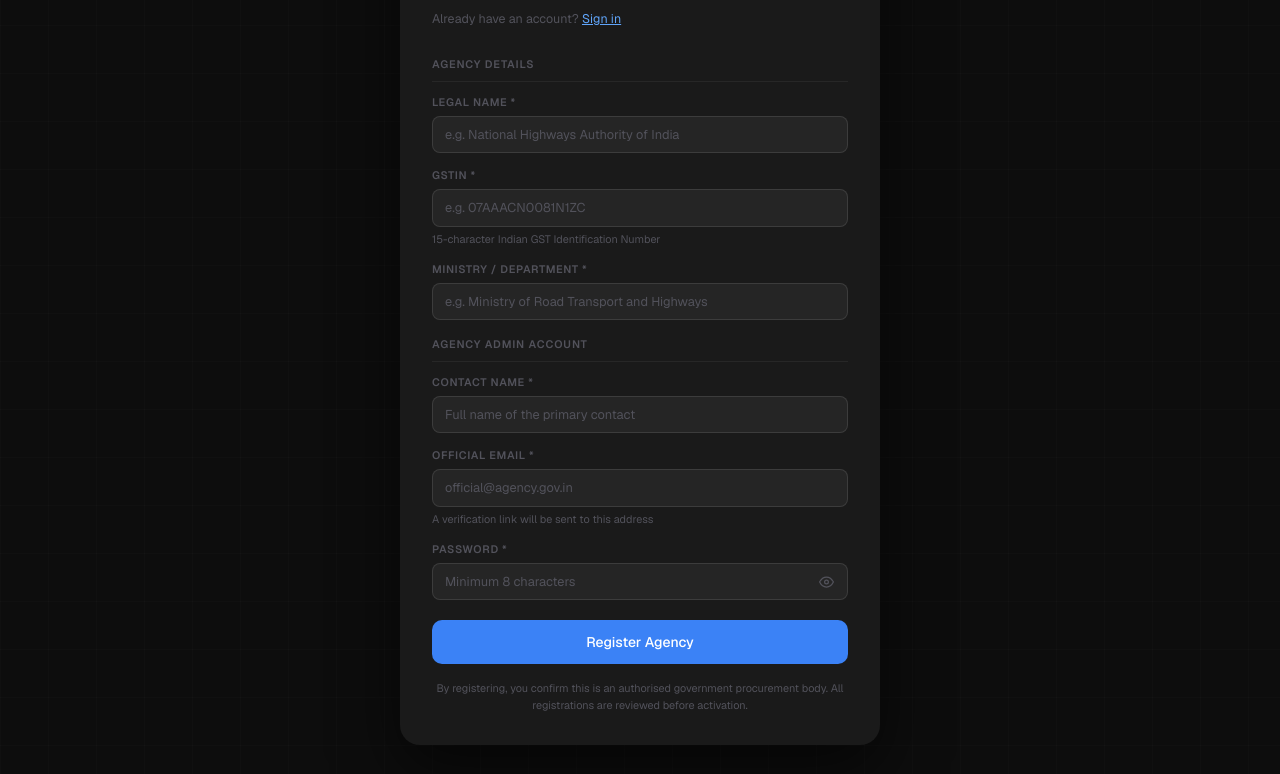
Scenario: AgencyRegistrationForm — field-level validation (Requirement 1.7) › shows multiple field errors simultaneously when several fields are empty
(page scrolled)
Click the button "Register Agency". click: coordinates (640, 642)
box: [432, 620, 848, 664]
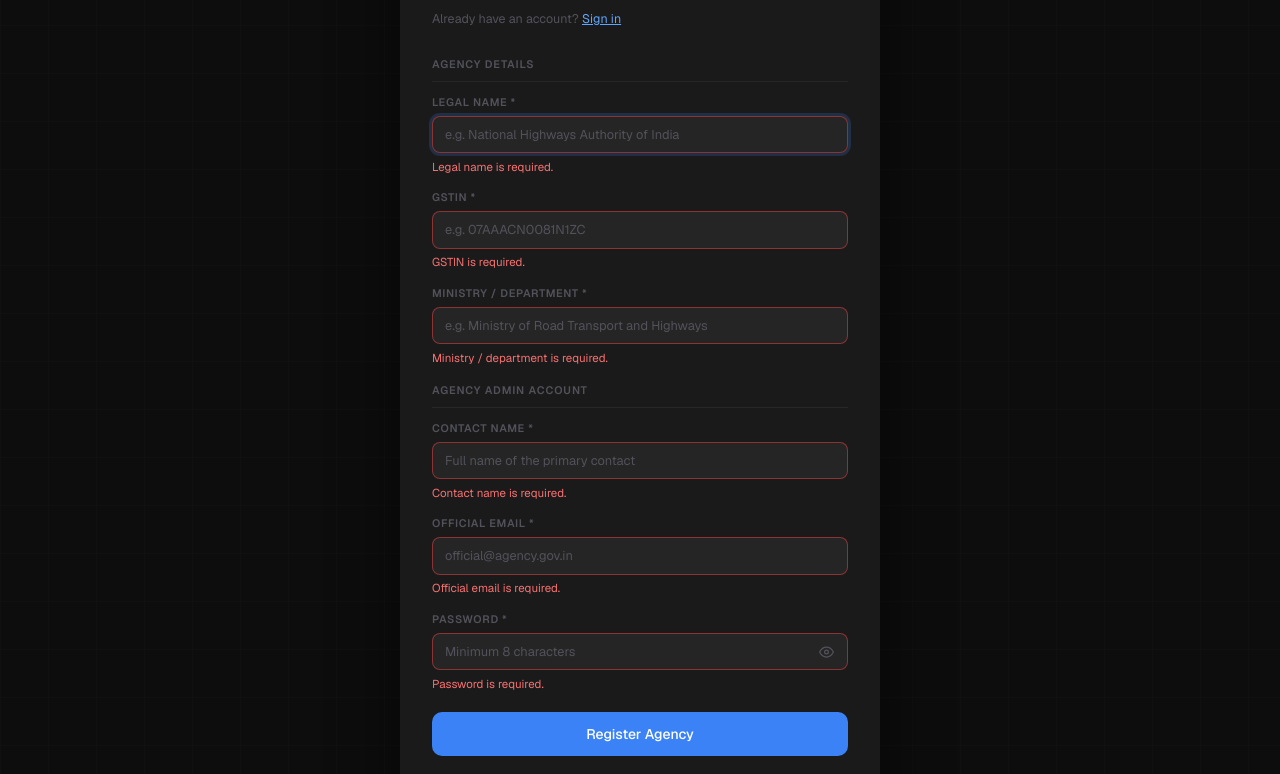
Expected: the text "Legal name is required." is shown, [432, 159, 553, 174]
Expected: the text "GSTIN is required." is shown, [432, 254, 525, 269]
Expected: the text "Ministry / department is required." is shown, [432, 350, 608, 365]
